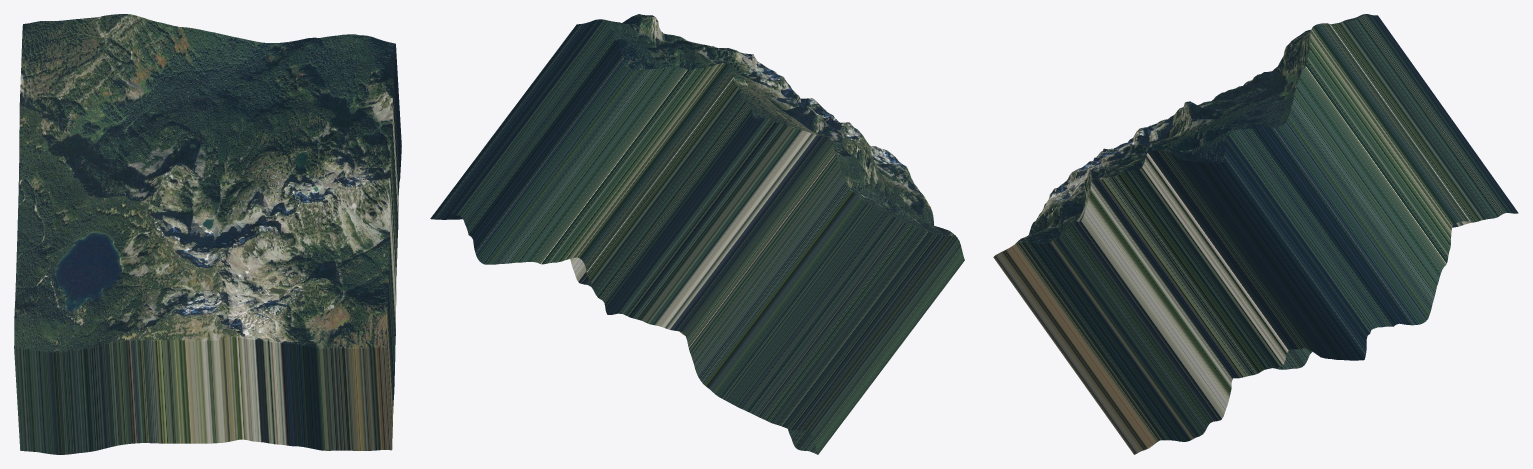
3 renders of one model, left to right at view 1: azimuth 30°, elevation 25°; view 2: azimuth 150°, elevation 25°; view 3: azimuth 270°, elevation 25°, orthographic. The views are drawn at different scales.
Bounding box in the file's own units: 6253 × 5064 × 6490.
1 material, 1 textured.
